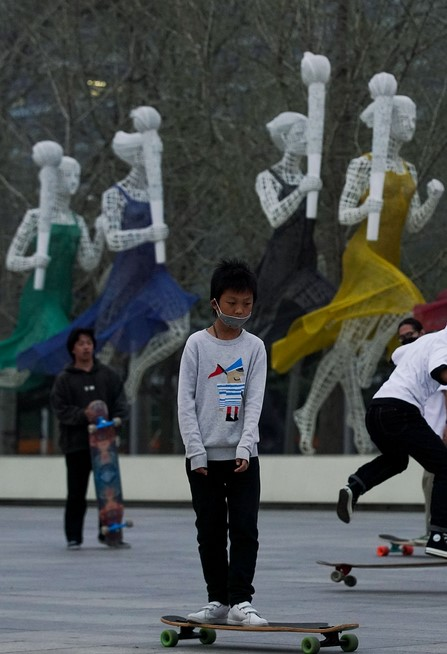face_no_mask: (67, 325, 97, 364)
face_with_mask: (206, 261, 261, 336), (391, 317, 425, 350)
